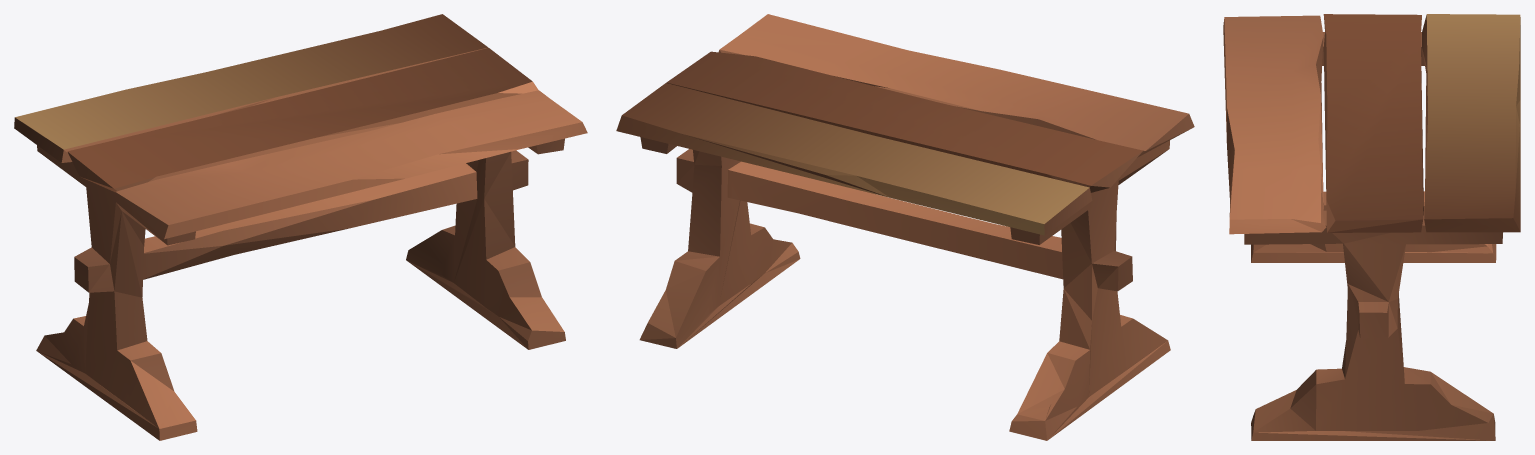
Rendered from table2Shabby.fbx.
3 views of the same model, side by side, from view 1: azimuth 30°, elevation 25°; view 2: azimuth 150°, elevation 25°; view 3: azimuth 270°, elevation 25° (orthographic).
Visible parts, largest first — view 1: table2Shabby; view 2: table2Shabby; view 3: table2Shabby.
Boxes of the visible parts, x1,y1,x2,y2 form: table2Shabby: (14, 14, 587, 440); table2Shabby: (616, 14, 1194, 440); table2Shabby: (1223, 14, 1520, 440).
Bounding box in the file's own units: 244 × 121 × 144.
